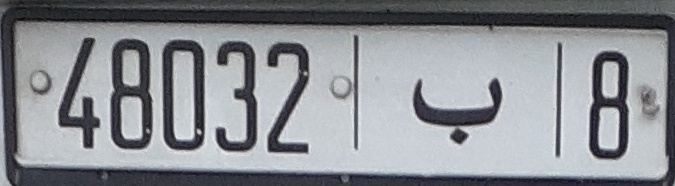0: (157, 38, 208, 155)
2: (261, 42, 314, 159)
3: (208, 40, 260, 155)
4: (50, 33, 105, 152)
8: (105, 32, 157, 153), (584, 46, 635, 163)
b: (408, 72, 509, 151)
